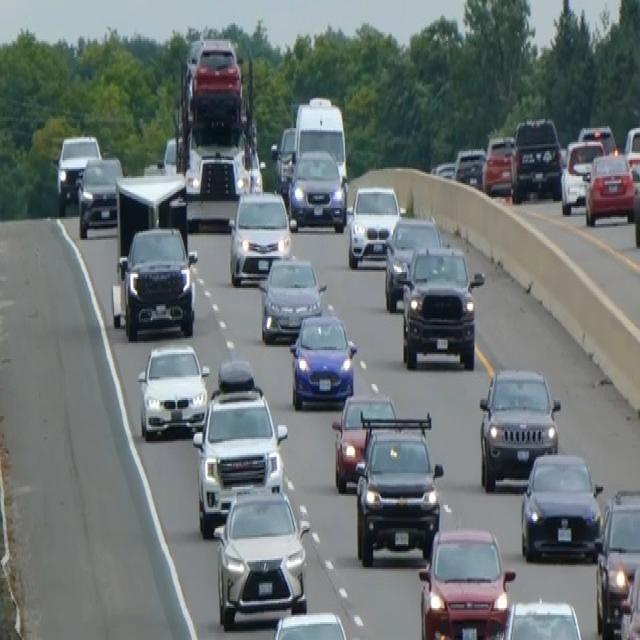car: (191, 361, 287, 535), (212, 480, 310, 629), (418, 524, 515, 638), (400, 242, 483, 370), (478, 364, 561, 490), (113, 224, 197, 340), (519, 449, 603, 564), (136, 339, 209, 441), (289, 307, 357, 409), (594, 487, 639, 638), (331, 391, 396, 493), (227, 187, 291, 286), (258, 253, 326, 343), (383, 213, 442, 311), (287, 146, 347, 233), (347, 182, 401, 268), (510, 114, 561, 201), (76, 153, 124, 238), (584, 149, 636, 226), (488, 598, 588, 638), (54, 132, 101, 210), (559, 137, 605, 213), (267, 608, 351, 638), (481, 134, 515, 196), (619, 544, 639, 638), (452, 146, 486, 188), (577, 122, 617, 156), (623, 123, 639, 174), (632, 156, 639, 249)
jeep: (353, 411, 444, 567), (183, 36, 244, 144)
lorry: (173, 34, 261, 226)
minibus: (292, 92, 348, 186)
